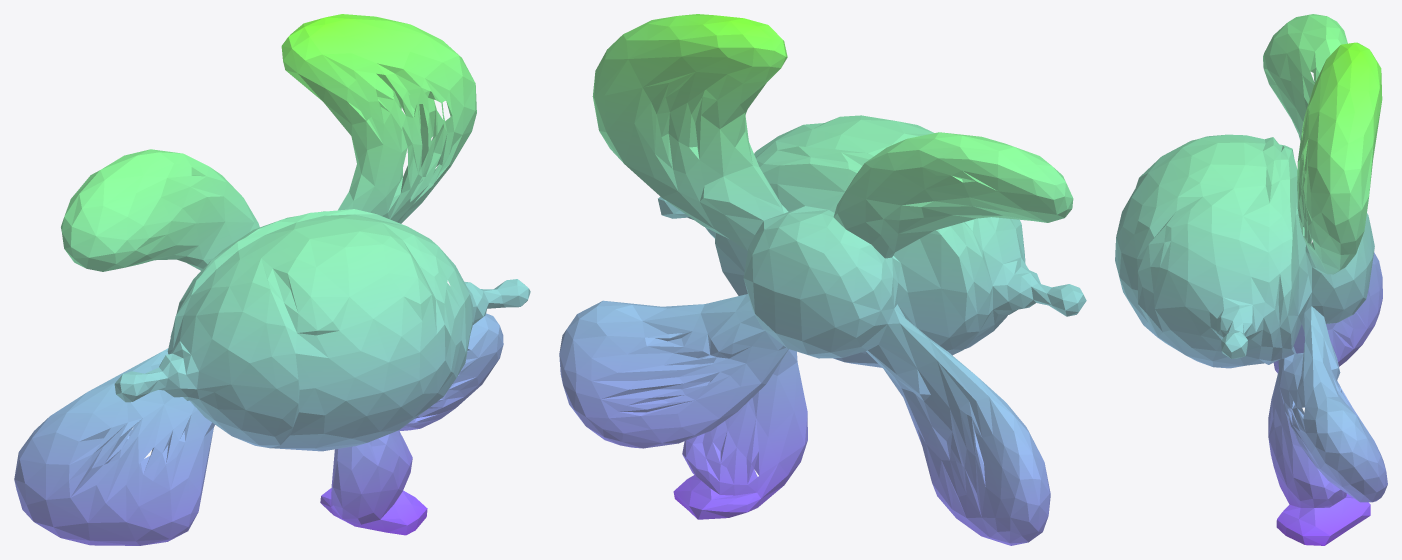
Rendered from 65_cyb_laser_gradient_fish_scales_2839_2026_10_03_6940cf.glb.
The picture shows the model from 3 angles, left to right: view 1: azimuth 30°, elevation 25°; view 2: azimuth 150°, elevation 25°; view 3: azimuth 270°, elevation 25°; orthographic projection. The views are drawn at different scales.
Visible parts, largest first — view 1: geometry_0; view 2: geometry_0; view 3: geometry_0.
Boxes of the visible parts, <box> form: geometry_0: <box>14,14,530,545</box>; geometry_0: <box>559,14,1086,545</box>; geometry_0: <box>1115,14,1387,545</box>.
Size of the model in its own units: 0.9955 by 1 by 0.5349.
